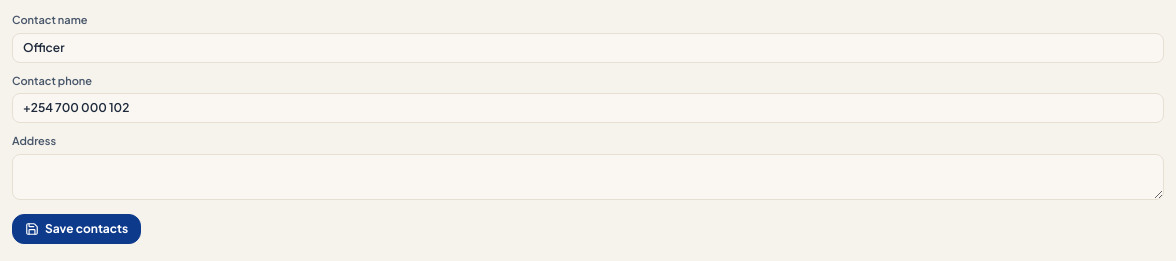
Test: ContactsEditor › patches contacts and reports success
Step 1. Replace the text in the field labelled "Contact name" with "Night officer" → (588, 48), box 12,32 -> 1164,62
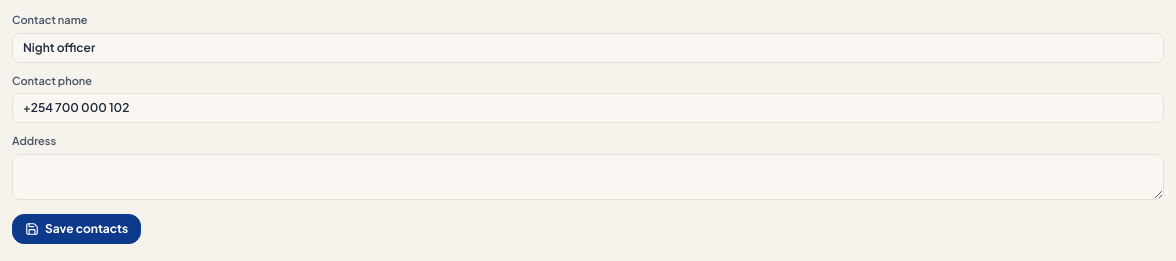
Step 2. Click the button "Save contacts" → (77, 229), box 12,214 -> 141,244
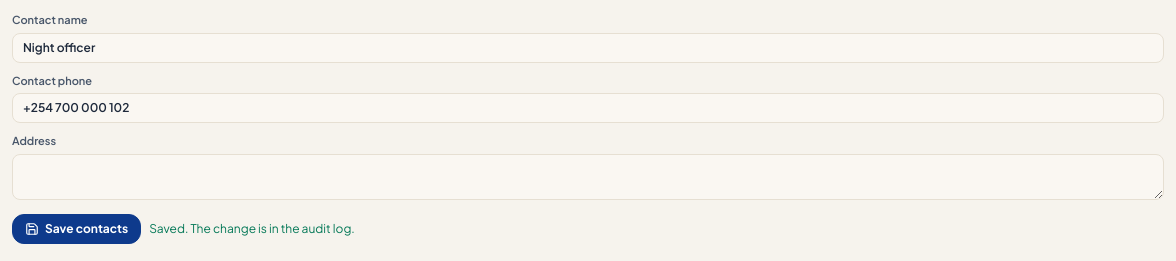
Check: the text "Saved. The change is in the audit log." is shown, box 149,221 -> 355,237
